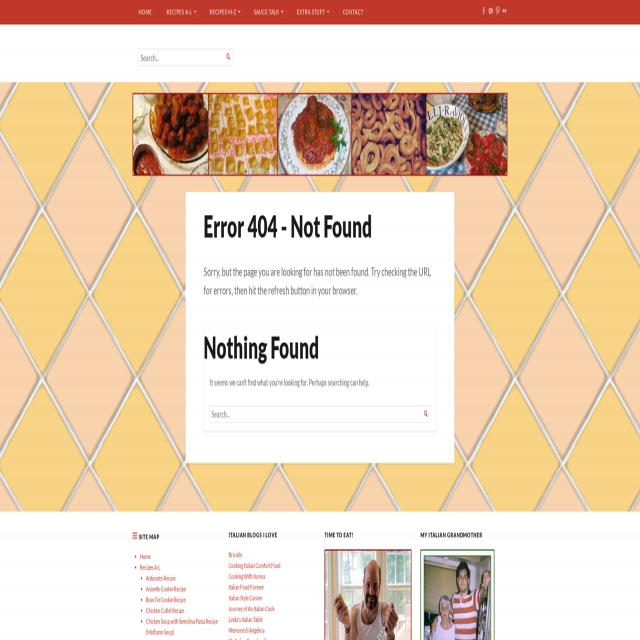button: (422, 406, 430, 422), (225, 49, 232, 65)
field: (210, 406, 430, 422), (139, 49, 233, 66)
